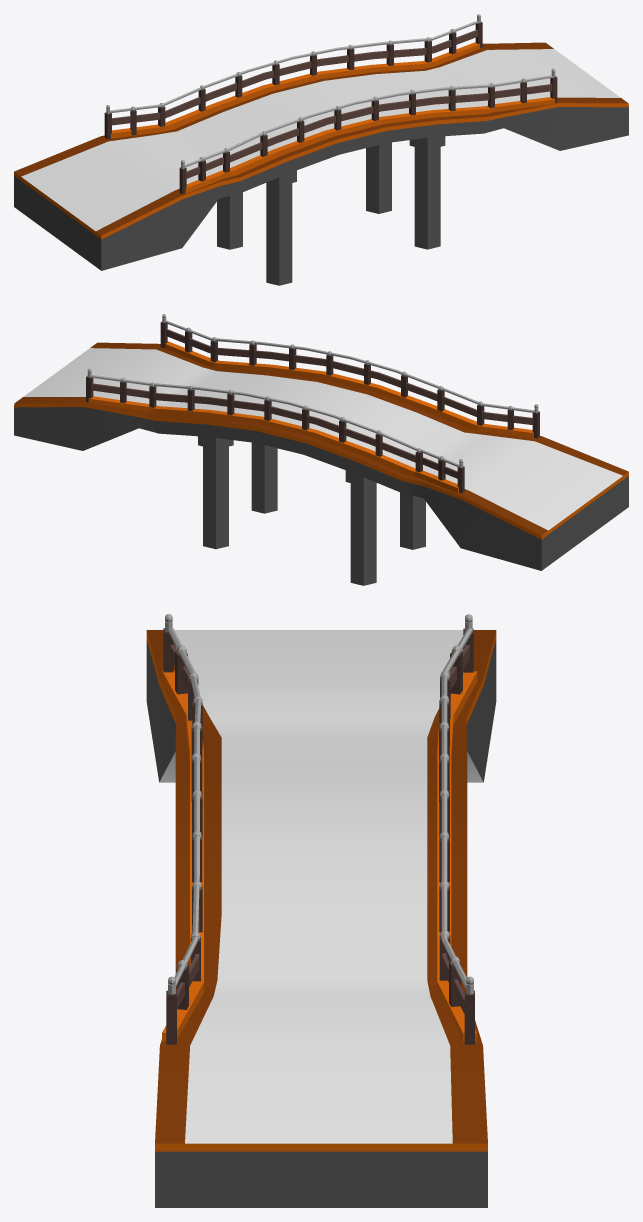
File: ponte_defi.fbx
The picture shows the model from 3 angles, top to bottom: view 1: azimuth 30°, elevation 25°; view 2: azimuth 150°, elevation 25°; view 3: azimuth 270°, elevation 25°; orthographic projection. The views are drawn at different scales.
Parts seen in each view (by area): view 1: polySurface344, polySurface345, polySurface375, polySurface342, polySurface408, polySurface372; view 2: polySurface344, polySurface345, polySurface375, polySurface342, polySurface408, polySurface372; view 3: polySurface344, polySurface408, polySurface375, polySurface372, polySurface342, polySurface400.
Part boxes in pixels (bbox=[...]): polySurface344: bbox=[14, 42, 628, 270]; polySurface345: bbox=[217, 136, 445, 285]; polySurface375: bbox=[111, 42, 554, 193]; polySurface342: bbox=[112, 29, 552, 178]; polySurface408: bbox=[104, 21, 557, 194]; polySurface372: bbox=[110, 21, 552, 167]; polySurface344: bbox=[14, 342, 628, 570]; polySurface345: bbox=[198, 436, 425, 585]; polySurface375: bbox=[88, 341, 533, 492]; polySurface342: bbox=[91, 329, 533, 478]; polySurface408: bbox=[86, 321, 539, 493]; polySurface372: bbox=[90, 320, 534, 467]; polySurface344: bbox=[146, 630, 496, 1207]; polySurface408: bbox=[163, 628, 474, 1044]; polySurface375: bbox=[162, 671, 477, 1041]; polySurface372: bbox=[168, 627, 473, 989]; polySurface342: bbox=[170, 644, 469, 1013]; polySurface400: bbox=[177, 645, 461, 968].
Size of the model in its own units: 16.3 by 4.88 by 4.66.
